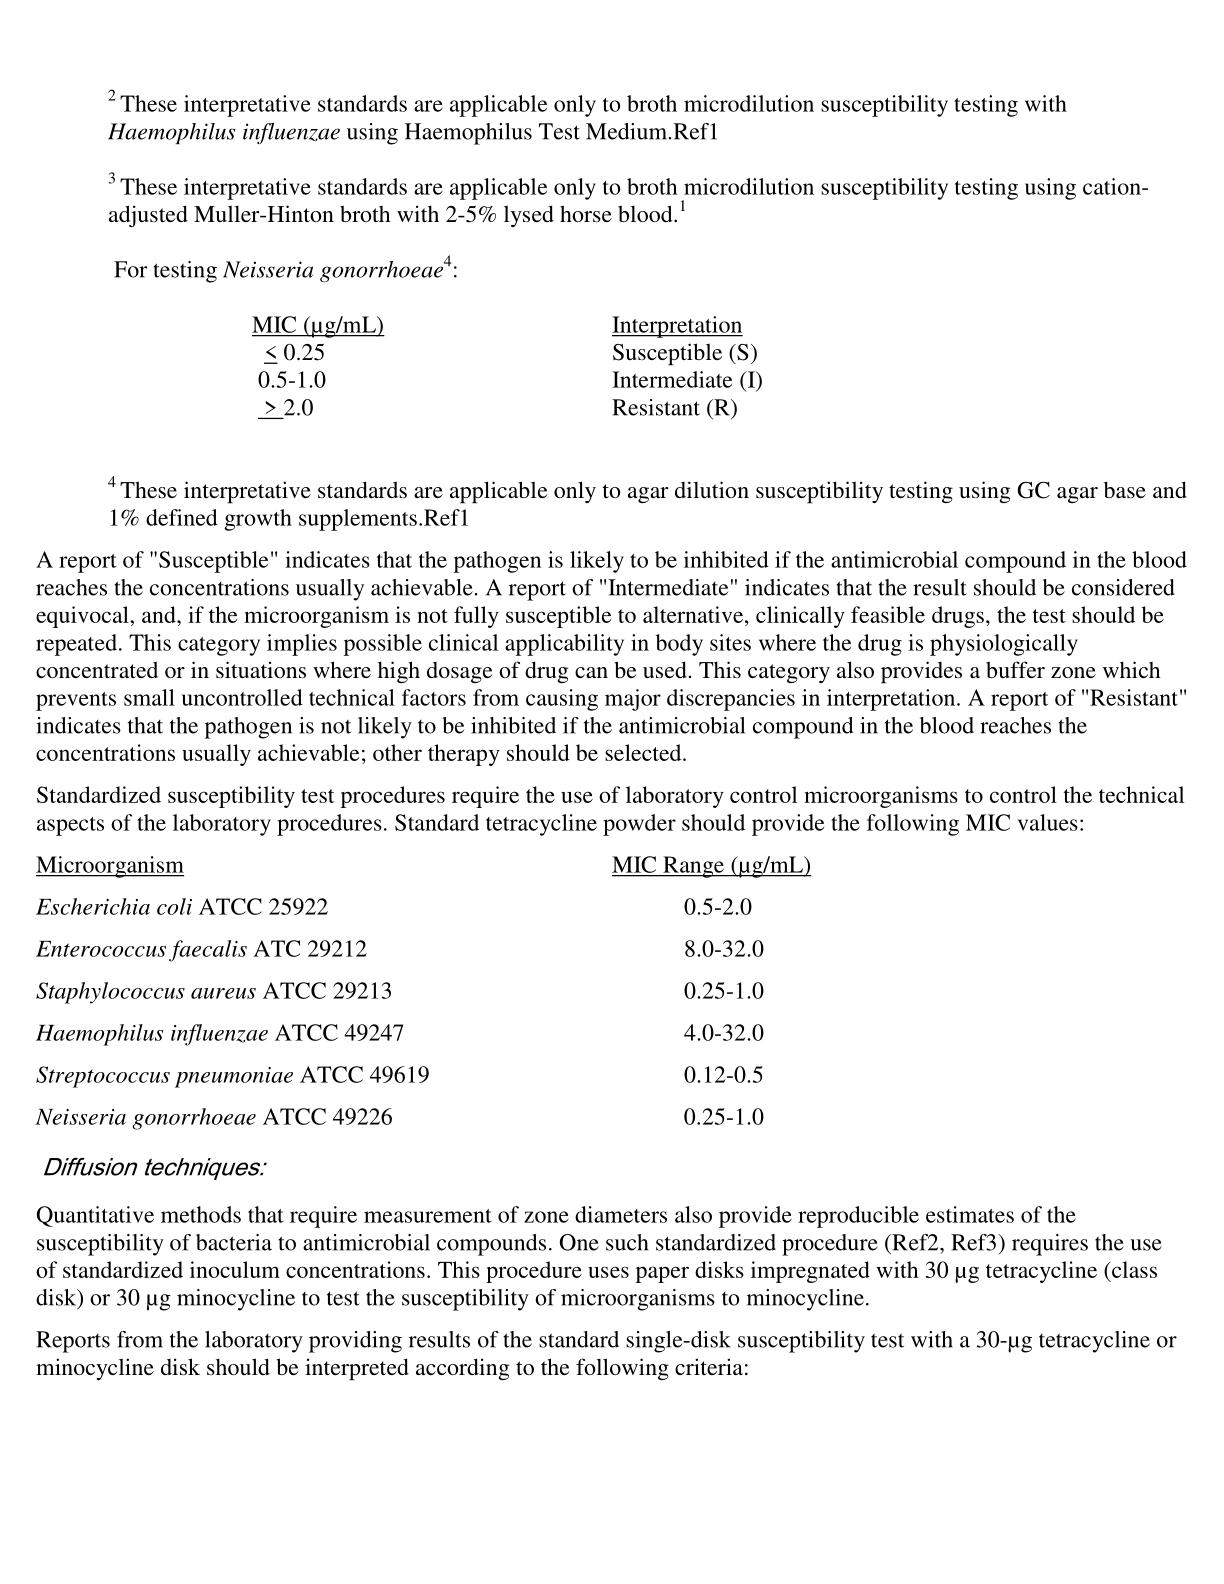nolines: (30, 843, 818, 1131), (248, 311, 766, 426)
